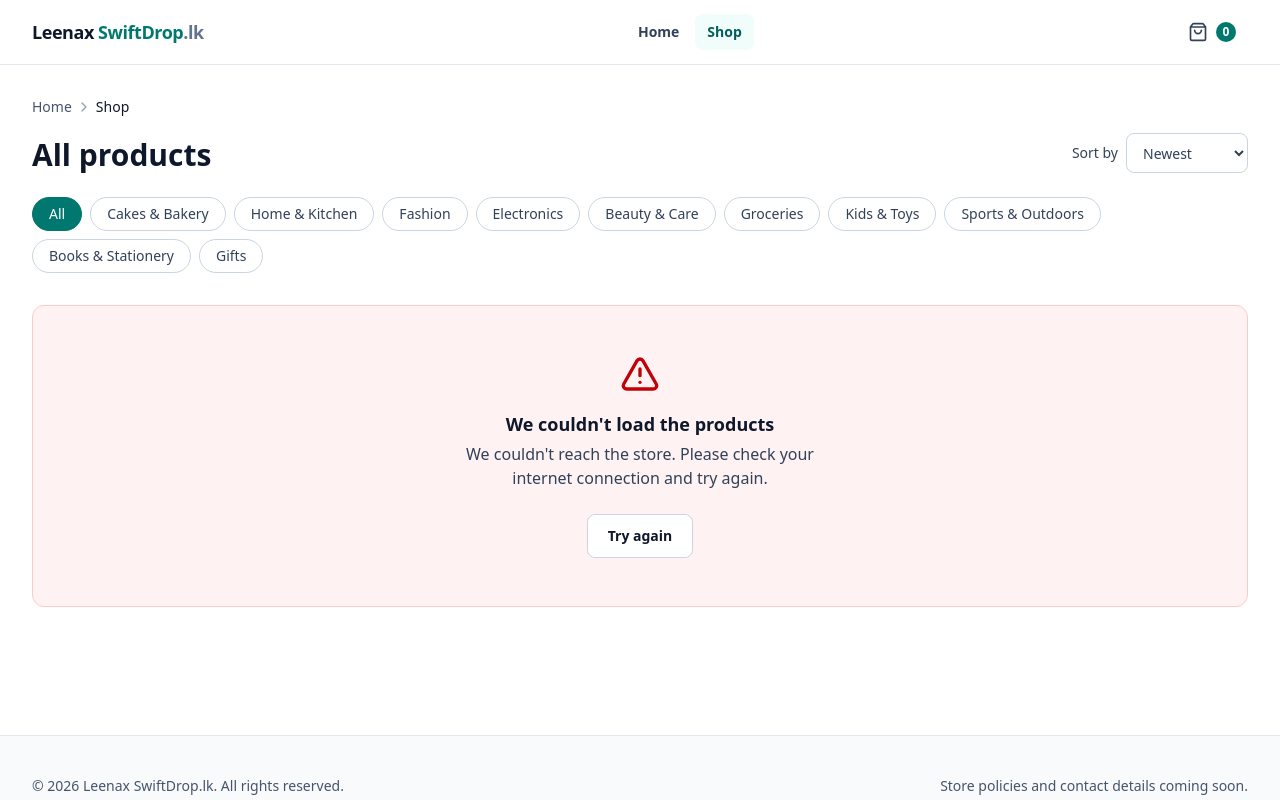
it: when the API fails › shows a friendly error, and "Try again" recovers
Check: the message shows "couldn't reach the store", box x1=466 y1=443 x2=814 y2=489
Click the button "Try again" at (640, 536), box x1=587 y1=514 x2=693 y2=558
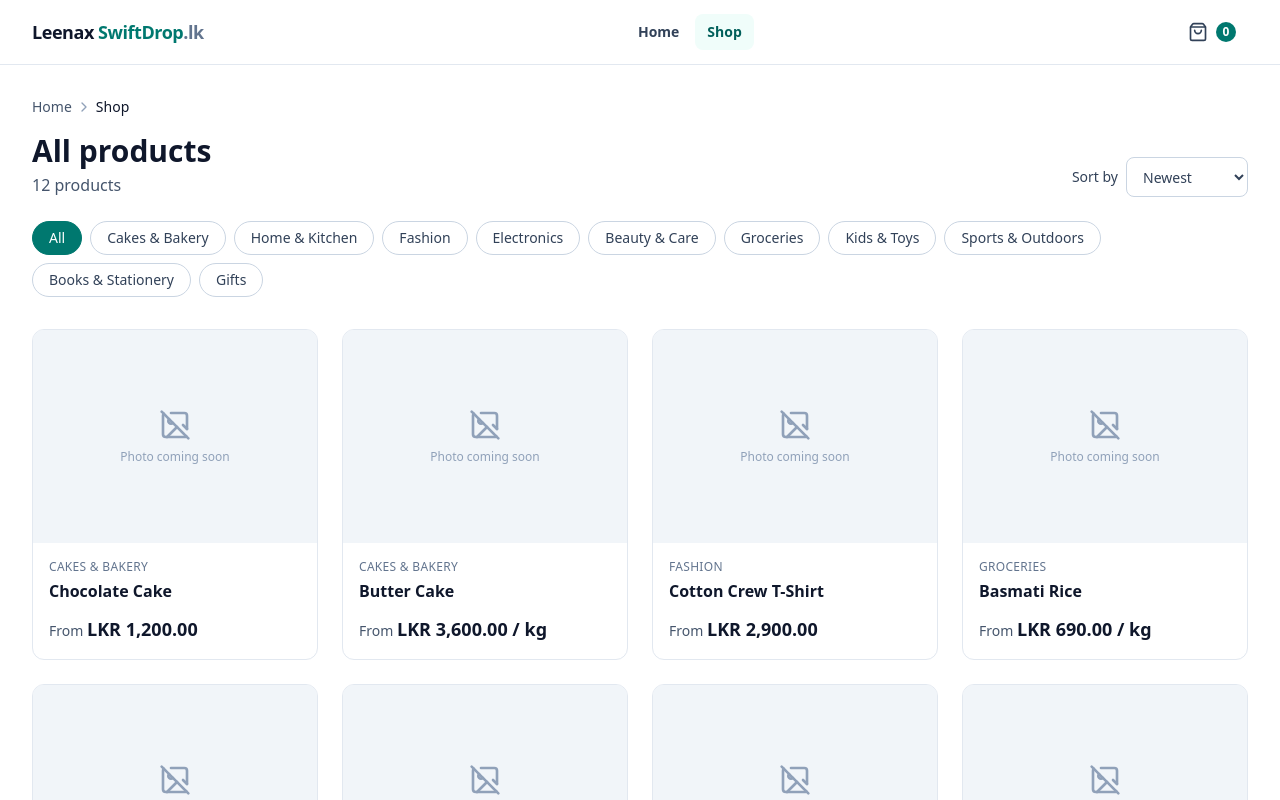
Check: the link "Chocolate Cake" is shown, box x1=49 y1=580 x2=172 y2=602
